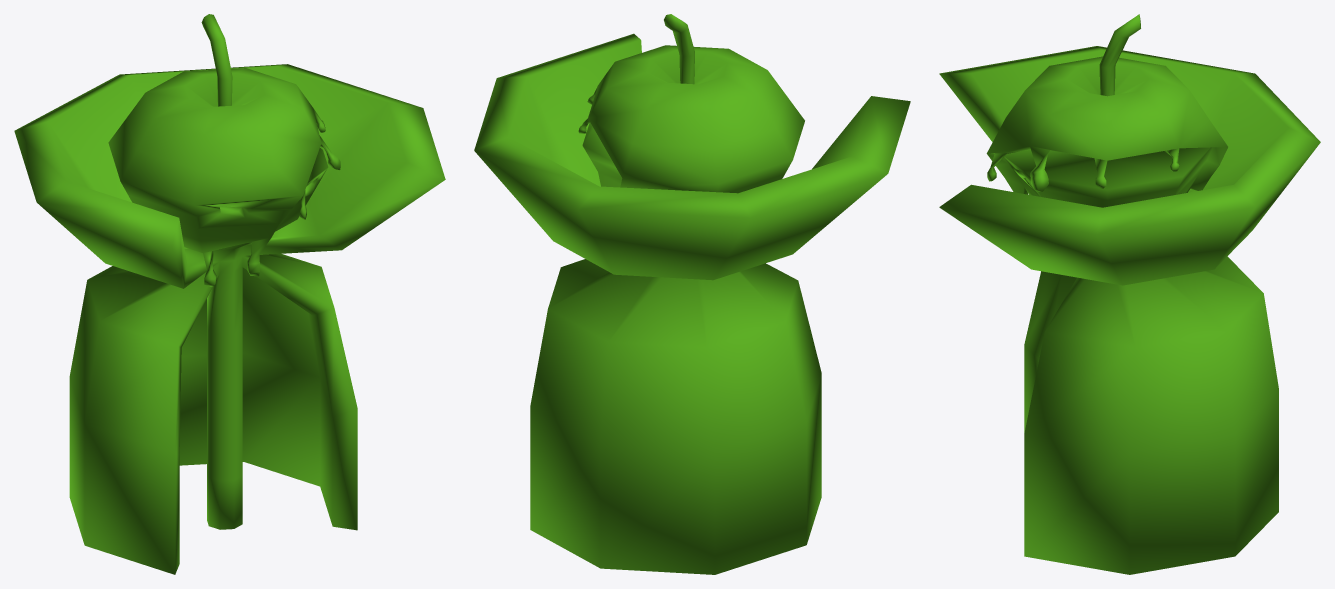
File: Phantom of the Apple.obj
3 renders of one model, left to right at view 1: azimuth 30°, elevation 25°; view 2: azimuth 150°, elevation 25°; view 3: azimuth 270°, elevation 25°, orthographic.
Parts seen in each view (by area): view 1: Phantom_of_the_Apple; view 2: Phantom_of_the_Apple; view 3: Phantom_of_the_Apple.
Boxes of the visible parts, <box> form: Phantom_of_the_Apple: <box>14,14,445,574</box>; Phantom_of_the_Apple: <box>474,14,910,574</box>; Phantom_of_the_Apple: <box>939,14,1320,574</box>.
Size of the model in its own units: 169 by 207 by 144.
